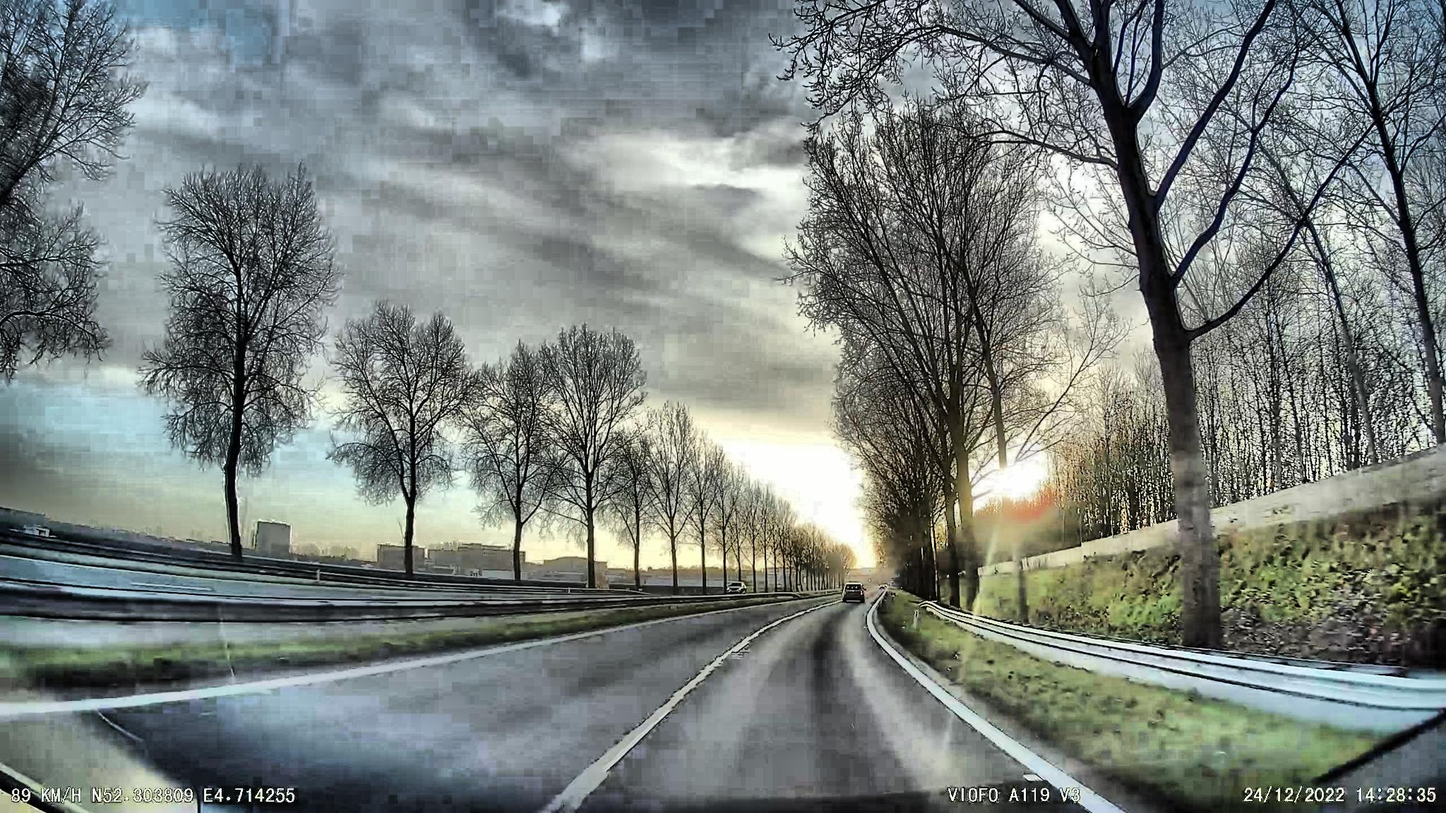Roads: (0, 600, 1169, 813)
